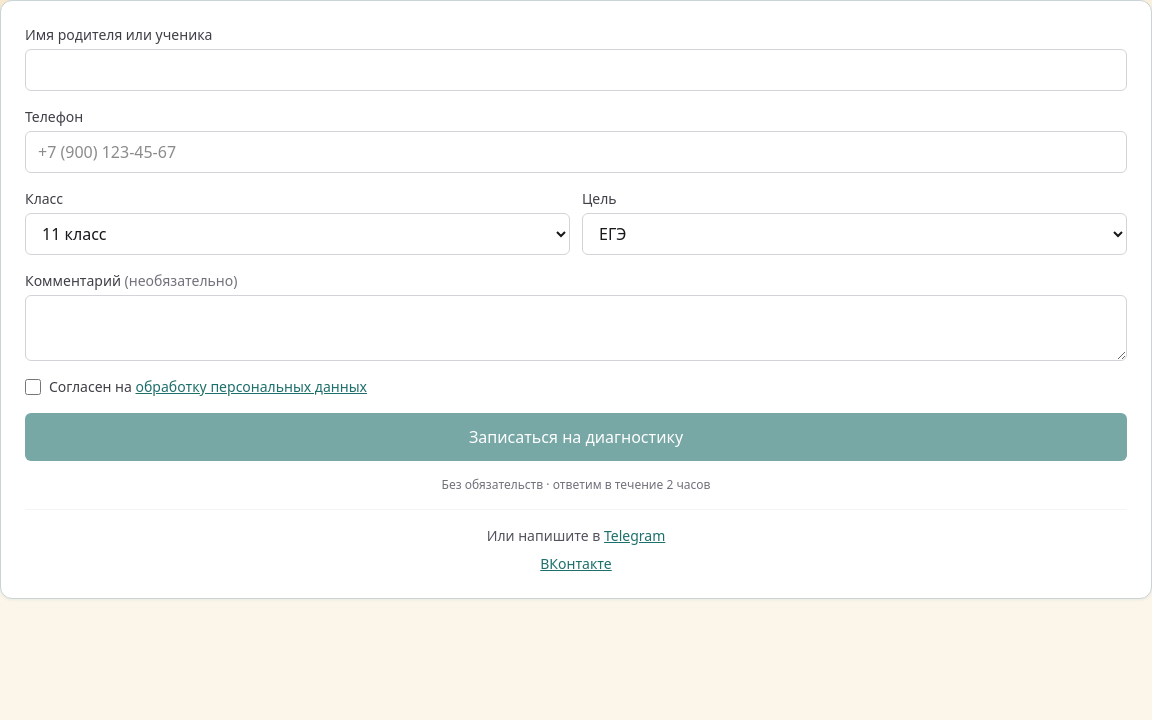
Test: LeadForm › submits with UTM params from searchParams
Type "Анна" into the field labelled "Имя родителя или ученика" at (576, 70), box [25,49,1127,91]
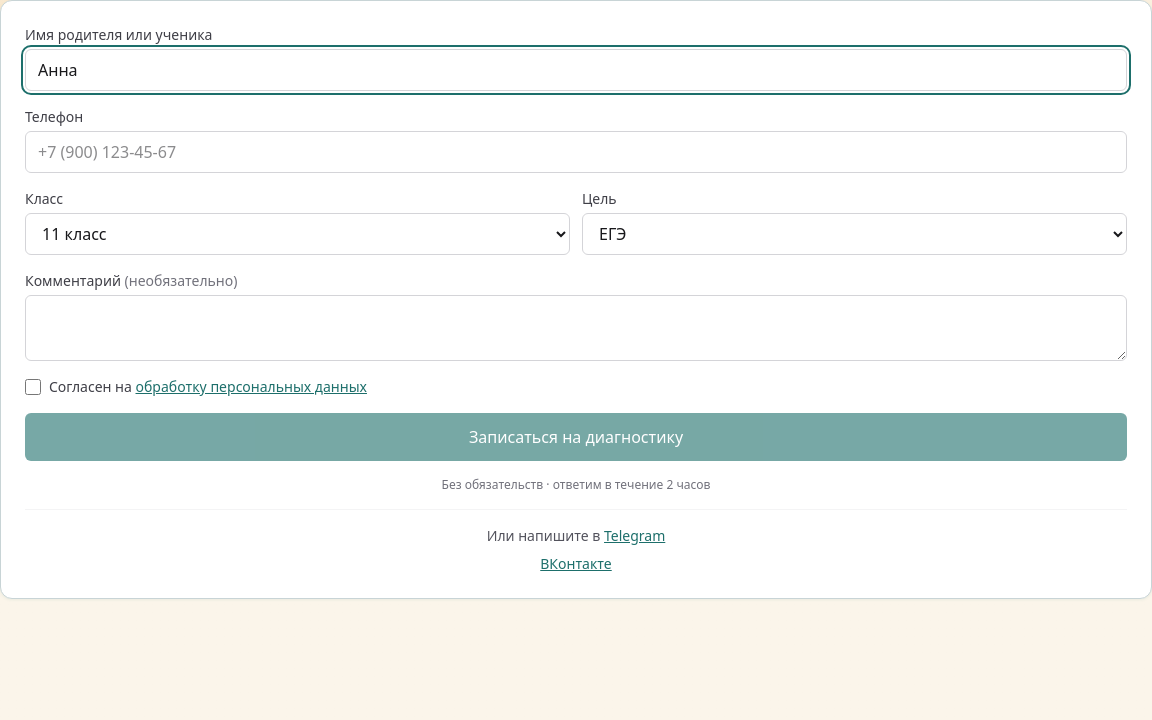
Type "+79001234567" into the field labelled "Телефон" at (576, 152), box [25,131,1127,173]
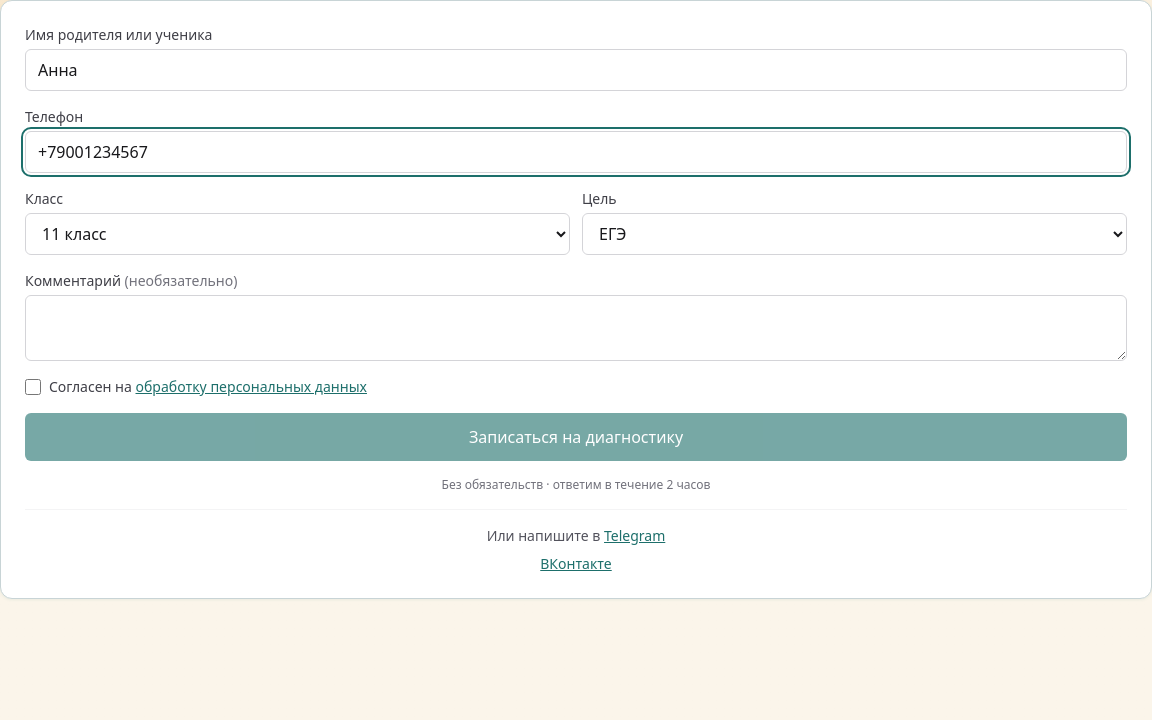
Click the checkbox at (33, 387), box [25,379,41,395]
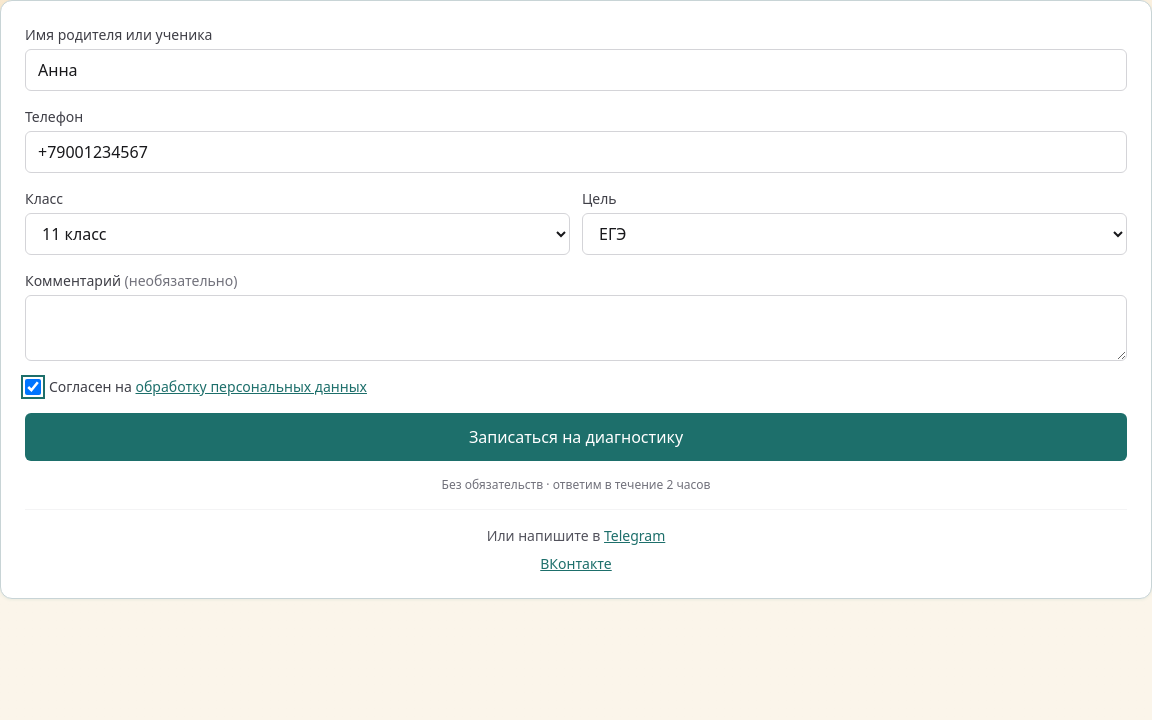
Click the button "Записаться на диагностику" at (576, 437), box [25,413,1127,461]
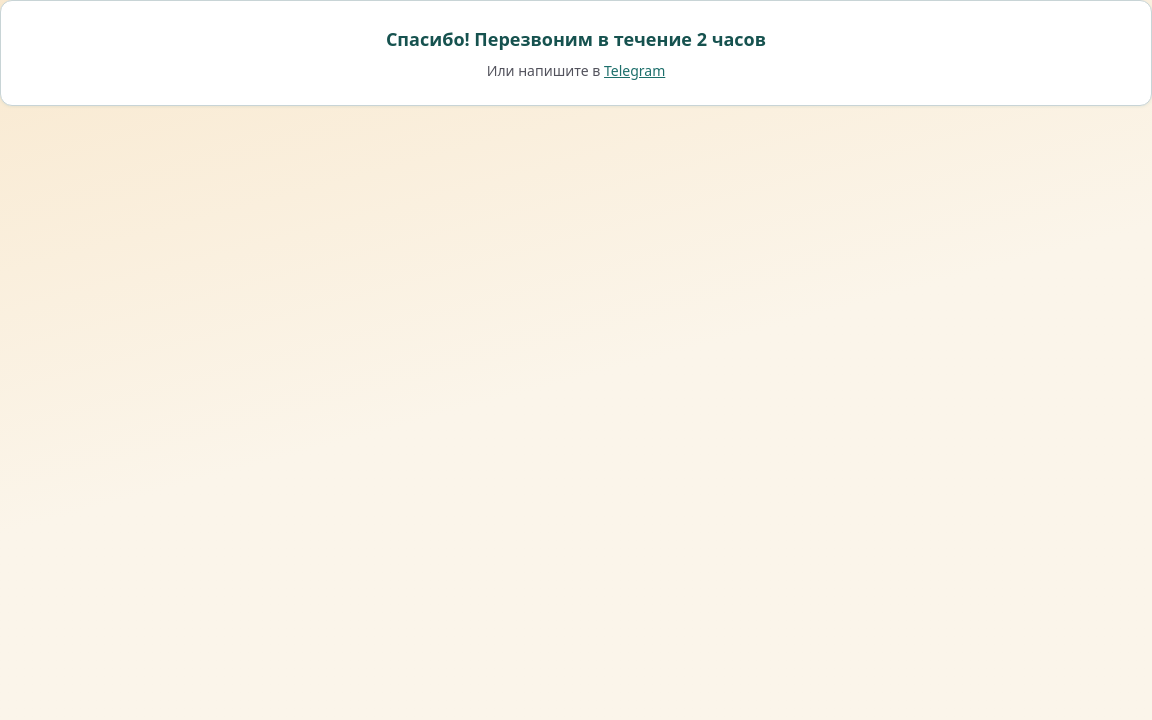
Check: the text "Спасибо! Перезвоним в течение 2 часов" is shown, box [386,27,766,51]
